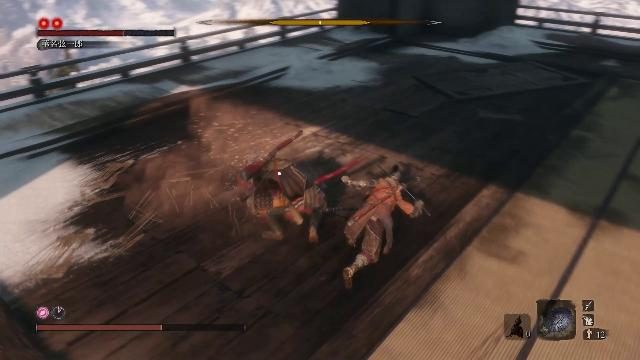sk: (344, 162, 426, 294)
